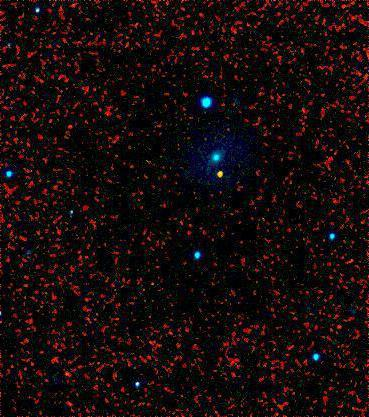star: (207, 160, 237, 190)
